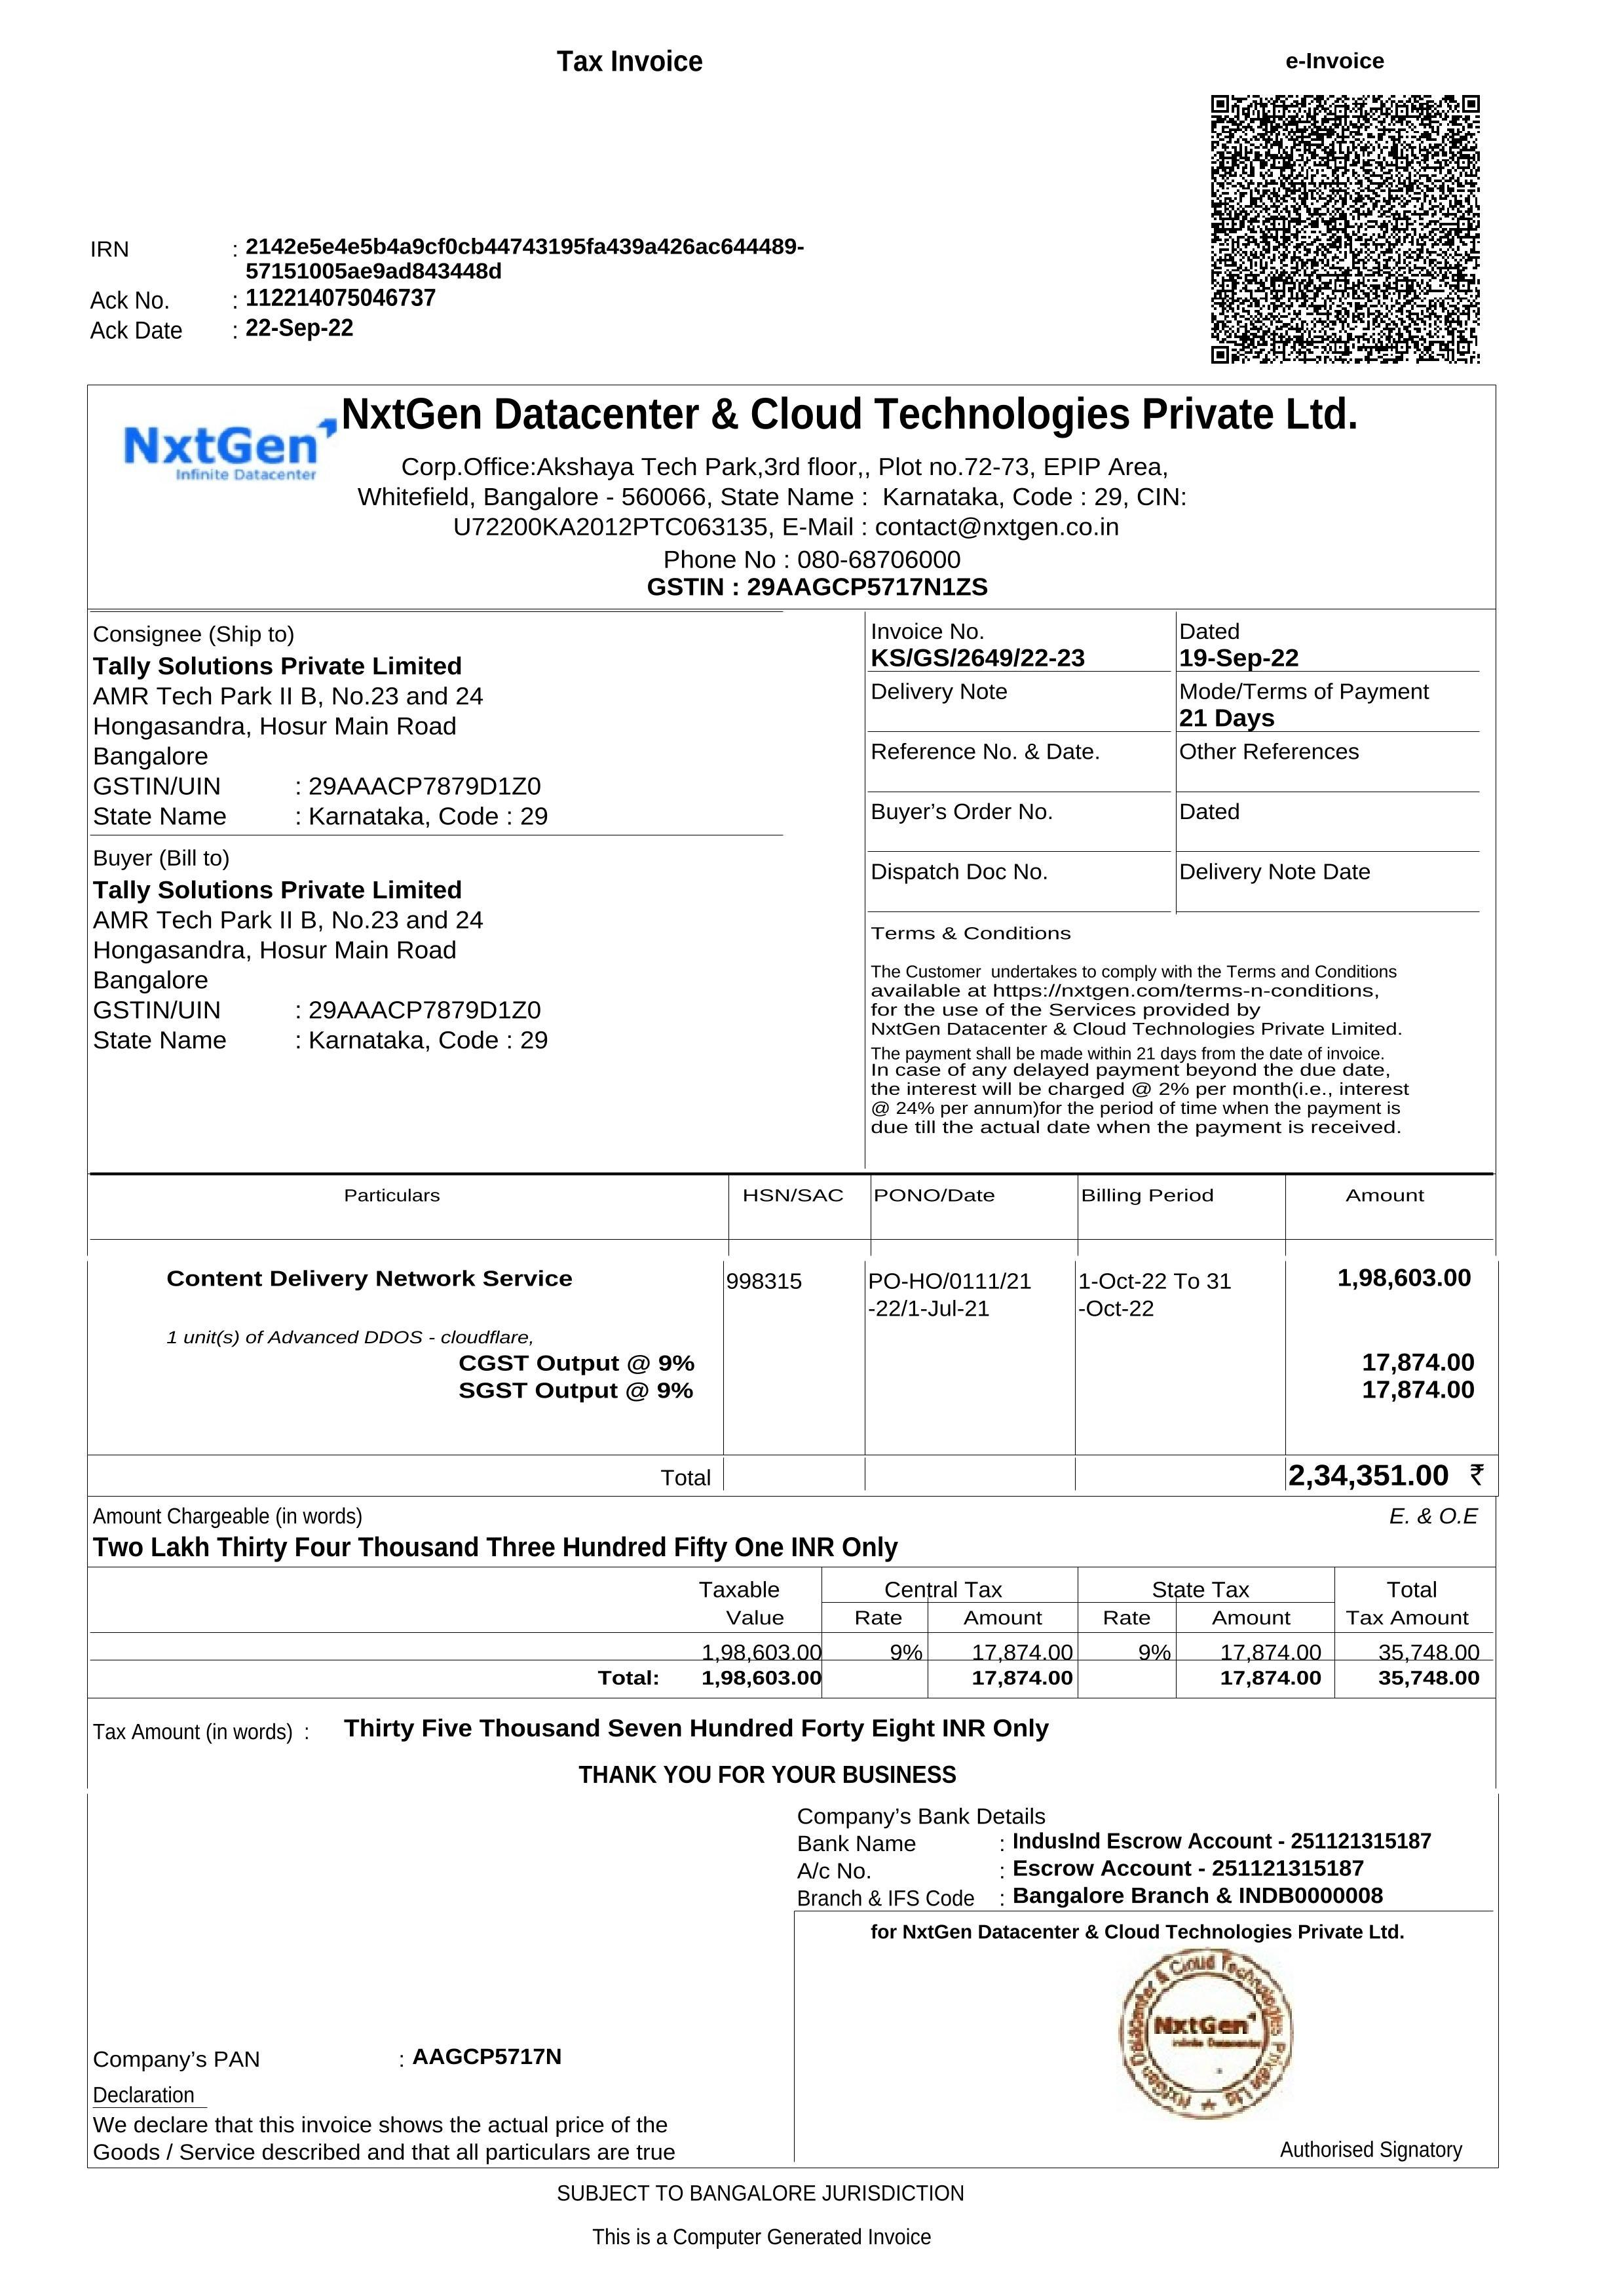InvoiceDate: (1179, 645, 1302, 672)
InvoiceNumber: (870, 643, 1088, 672)
TotalAmount: (1287, 1454, 1489, 1498)
